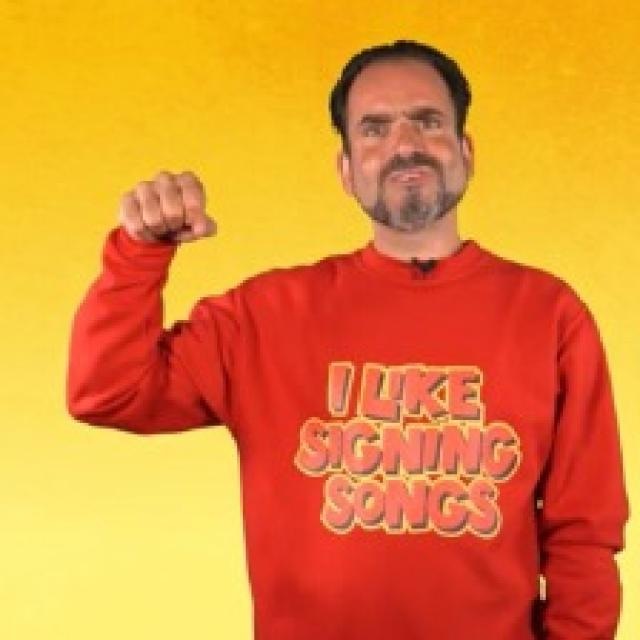yes: (112, 164, 224, 251)
